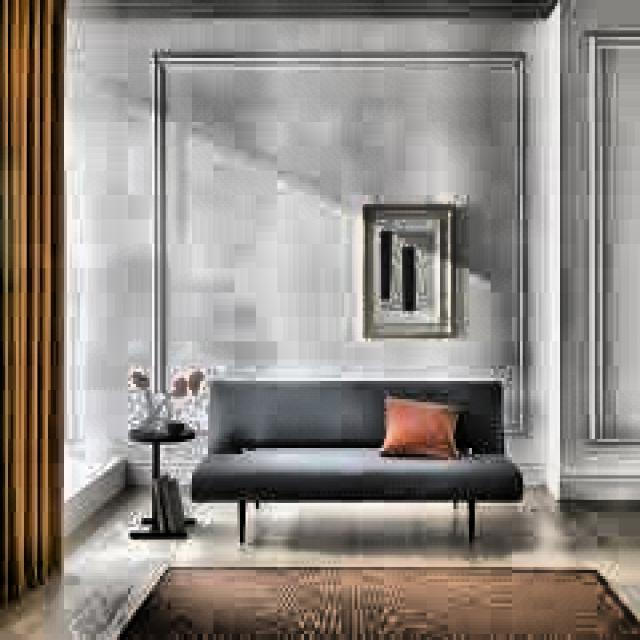sofa: (195, 381, 528, 539)
